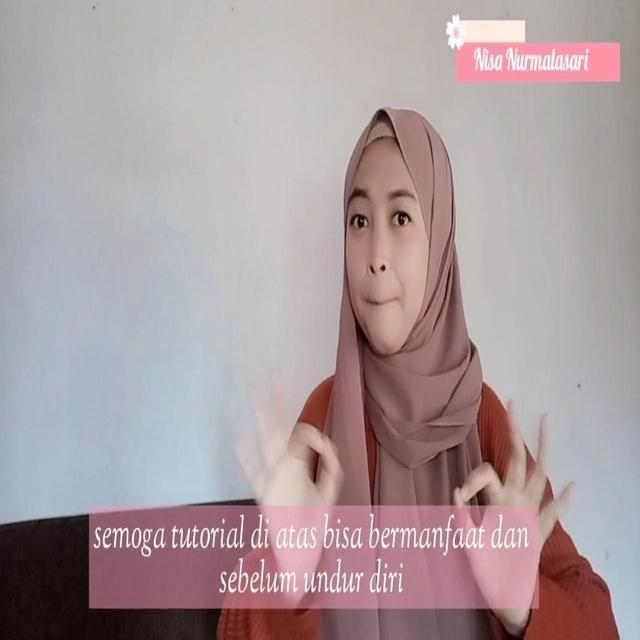O: (438, 390, 582, 590), (220, 368, 374, 538)
